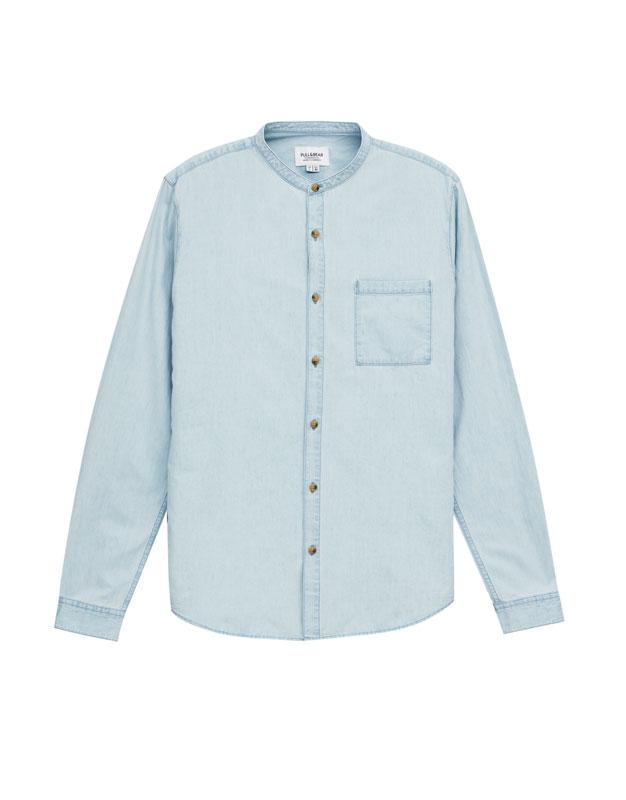teeshirt: (50, 116, 575, 686)
